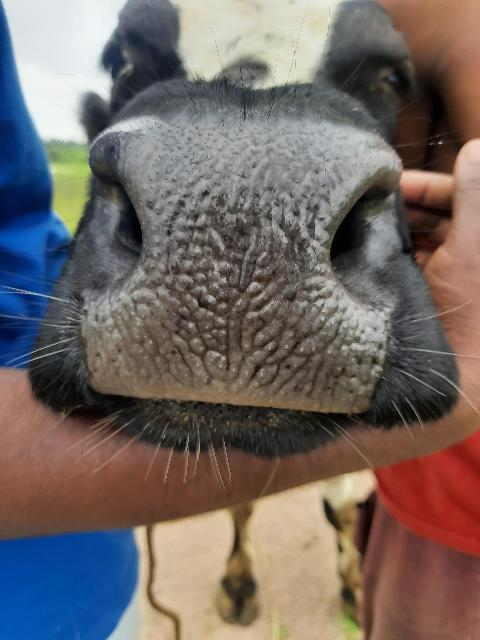Muzzle: (109, 128, 371, 422)
